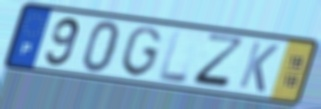0: (79, 19, 123, 75)
9: (45, 16, 80, 67)
G: (118, 25, 164, 79)
K: (236, 39, 282, 95)
L: (156, 29, 190, 86)
Z: (190, 32, 248, 92)
